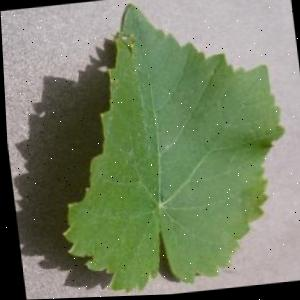Folha: (34, 0, 300, 297)
